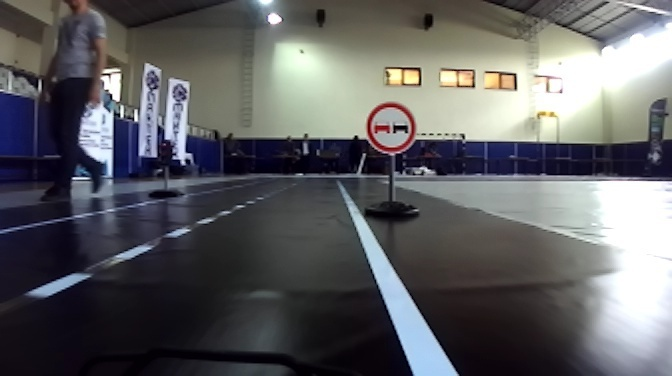sollama_yasak: (365, 101, 416, 153)
